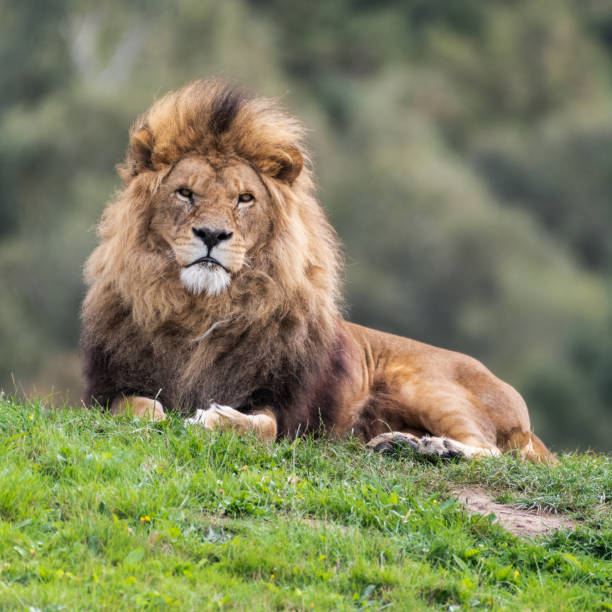lion: (58, 68, 365, 461)
